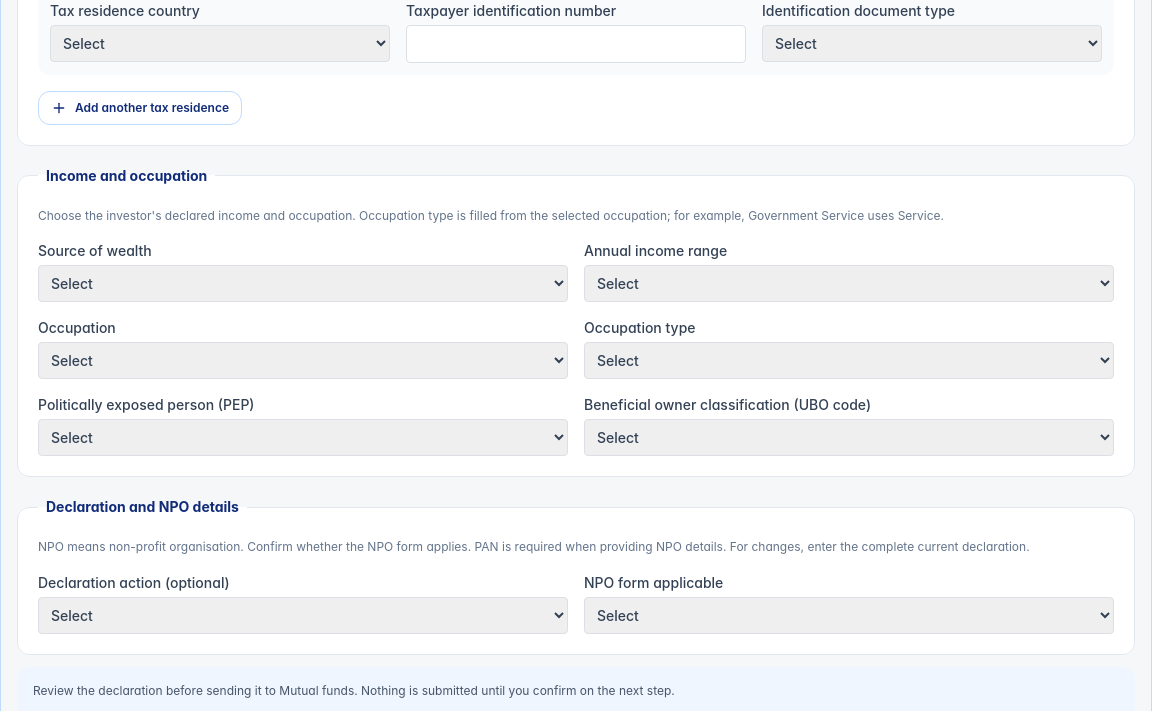
Test case: fills the documented occupation type and clears a removed tax residence
(page scrolled)
Select "GOVERNMENT SERVICE (44)" in the dropdown labelled "Occupation" at (303, 360), box [38, 342, 568, 379]
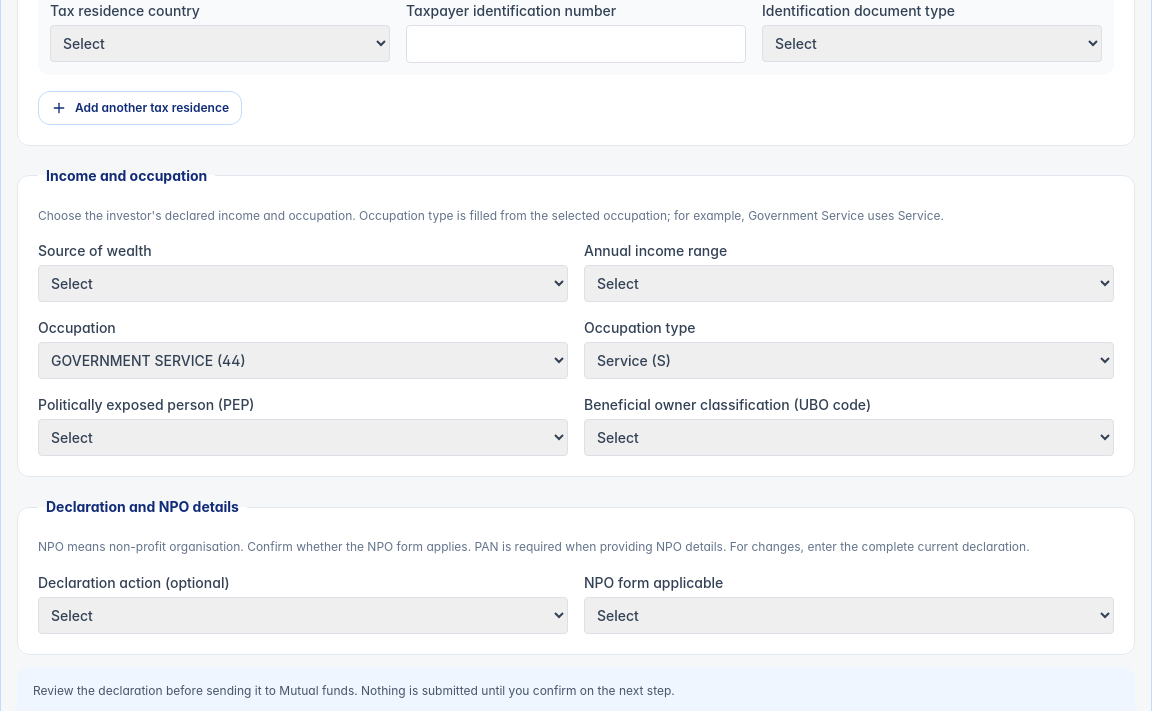
Now the dropdown labelled "Occupation type" shows "Service (S)", box [584, 342, 1114, 379]
Select "BUSINESS (01)" in the dropdown labelled "Occupation" at (303, 360), box [38, 342, 568, 379]
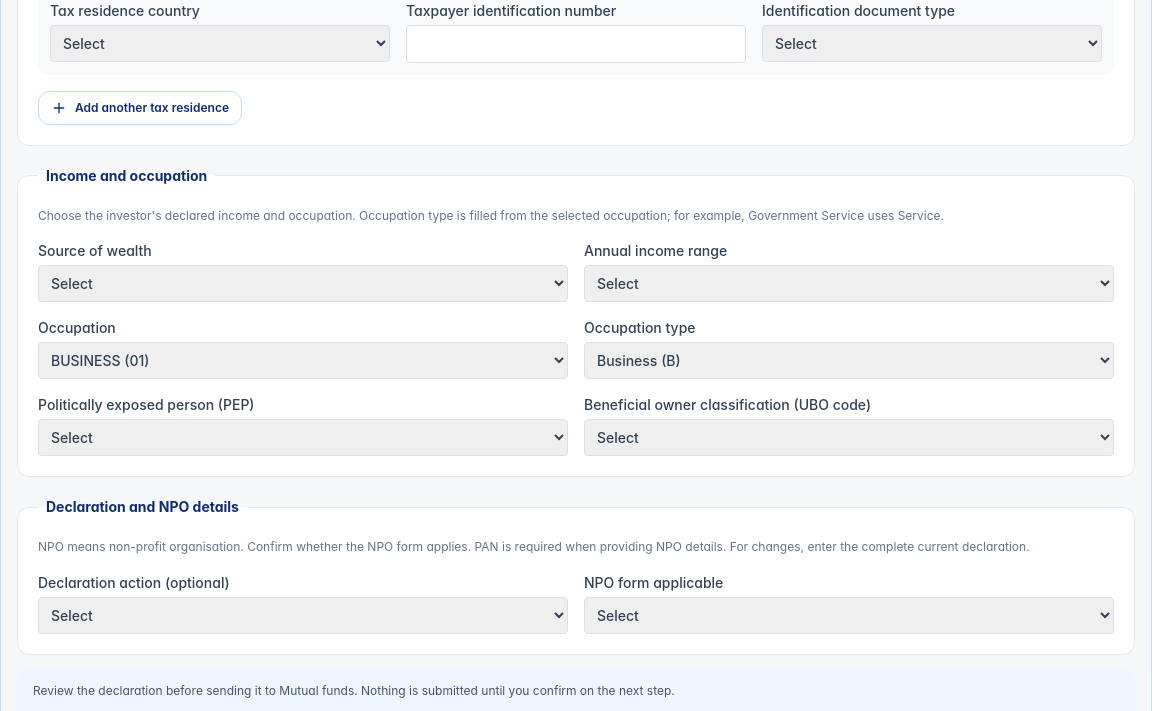
Now the dropdown labelled "Occupation type" shows "Business (B)", box [584, 342, 1114, 379]
Click the button "Add another tax residence" at (140, 108), box [38, 90, 242, 124]
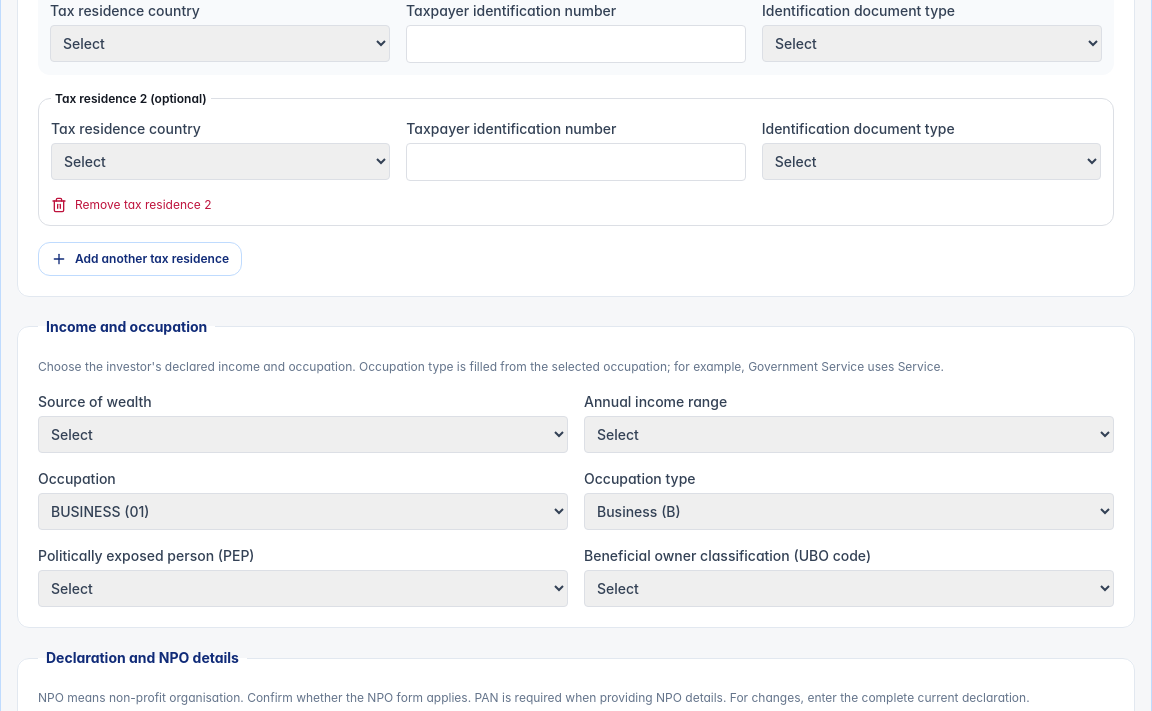
Select "UNITED STATES (US)" in the 2nd dropdown labelled "Tax residence country" at (221, 161), box [51, 142, 390, 180]
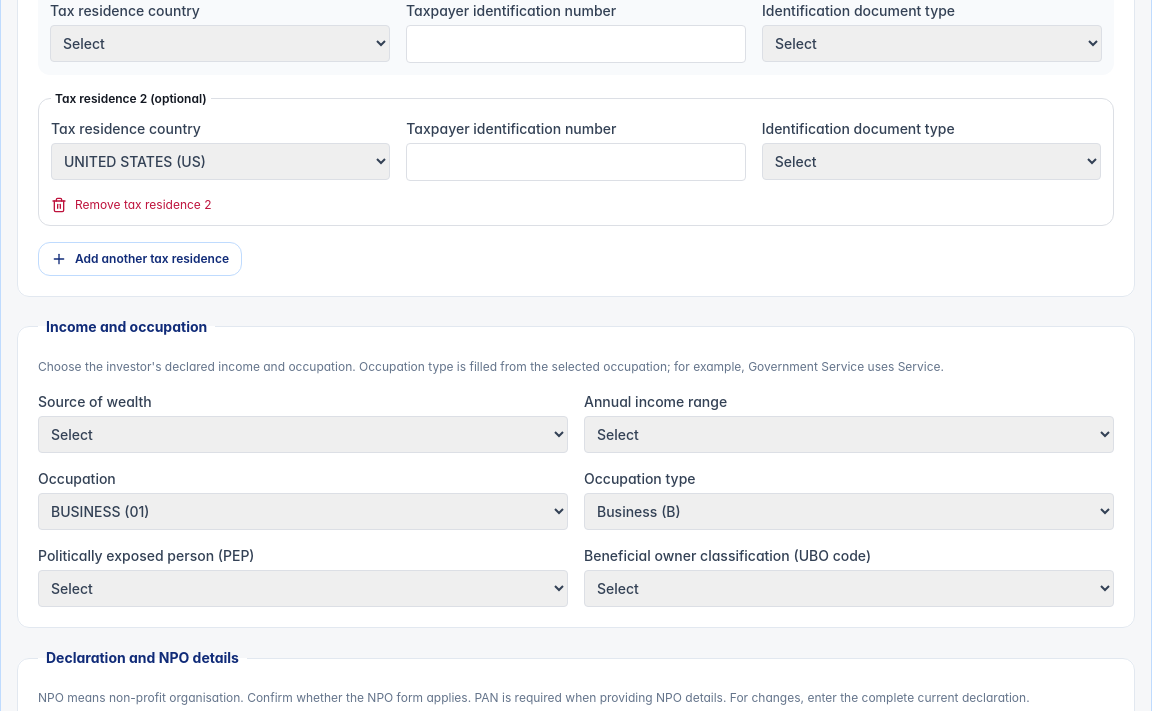
Click the button "Remove tax residence 2" at (140, 204), box [51, 196, 390, 212]
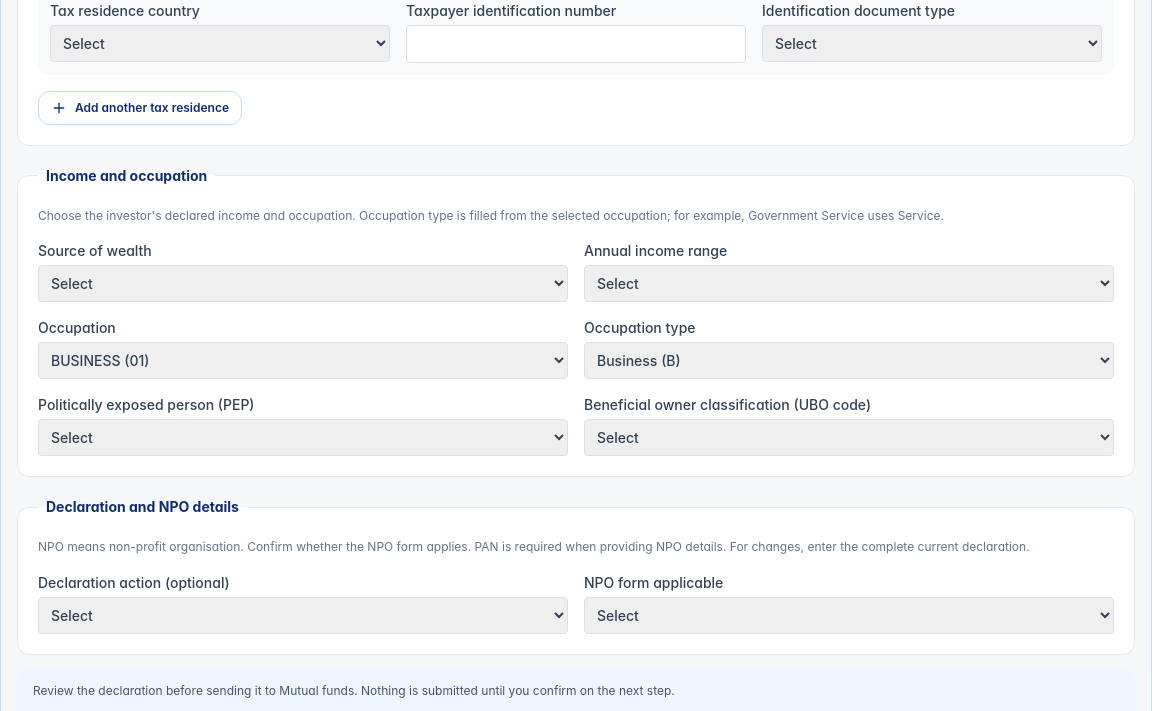
Click the button "Add another tax residence" at (140, 108), box [38, 90, 242, 124]
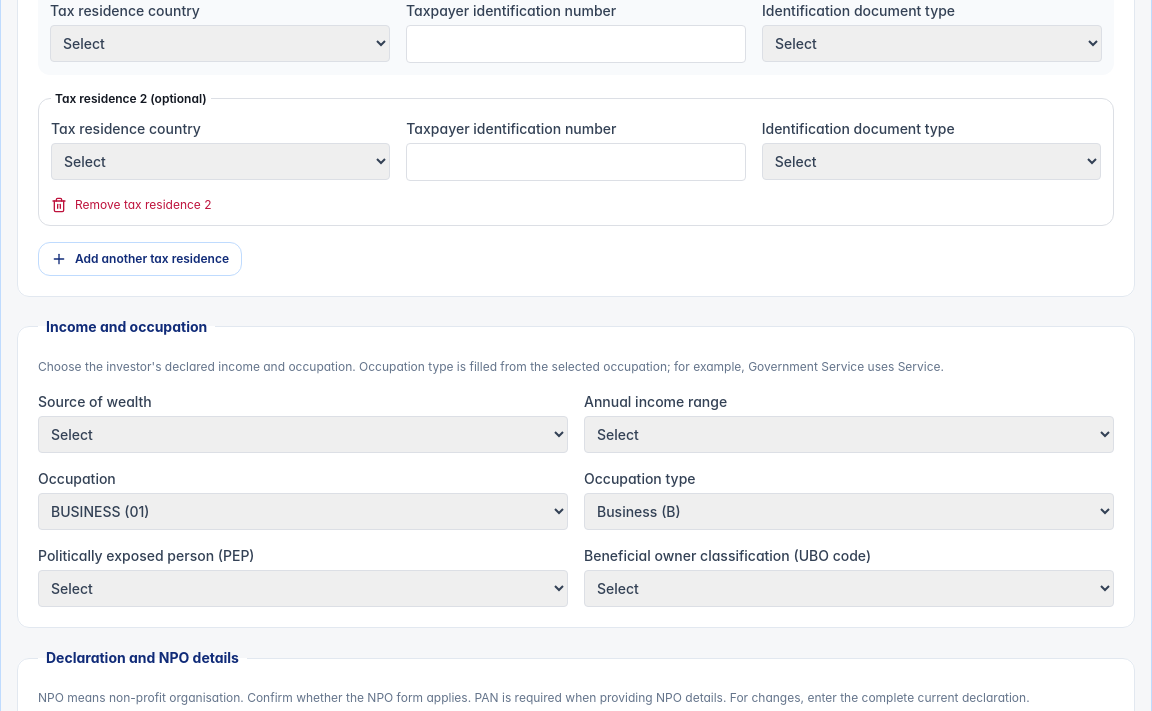
Now the 2nd dropdown labelled "Tax residence country" shows "Select", box [51, 142, 390, 180]
